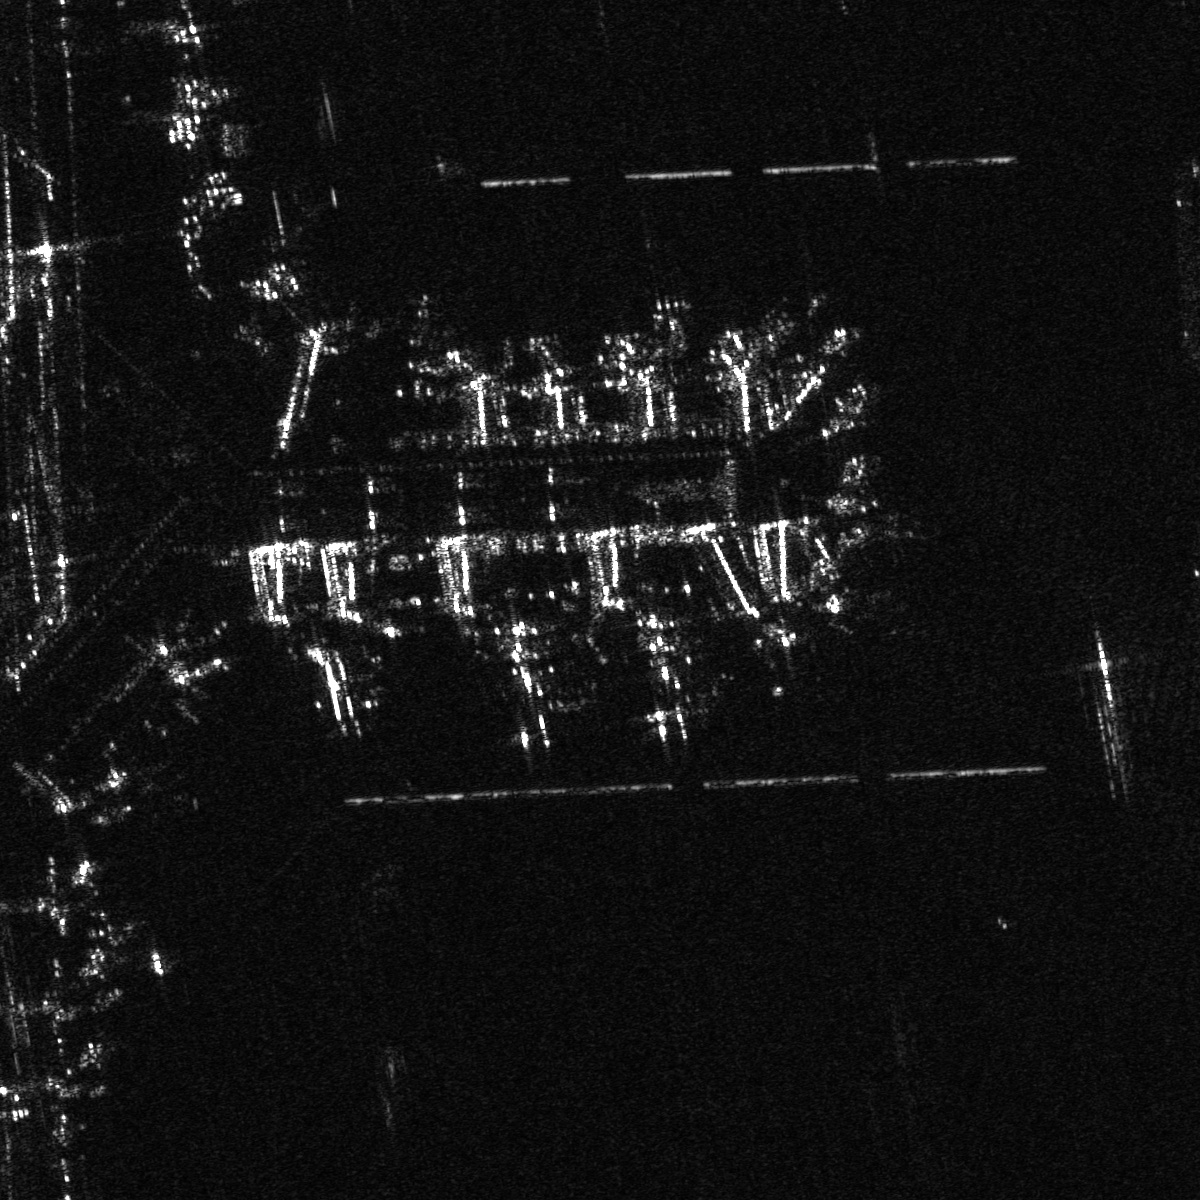A220: (289, 638, 385, 741)
A320/321: (29, 766, 142, 860), (641, 293, 697, 345)
Boeing737: (143, 638, 234, 710), (792, 586, 880, 635)
Boeing787: (458, 615, 566, 748)
other: (596, 604, 713, 737)
